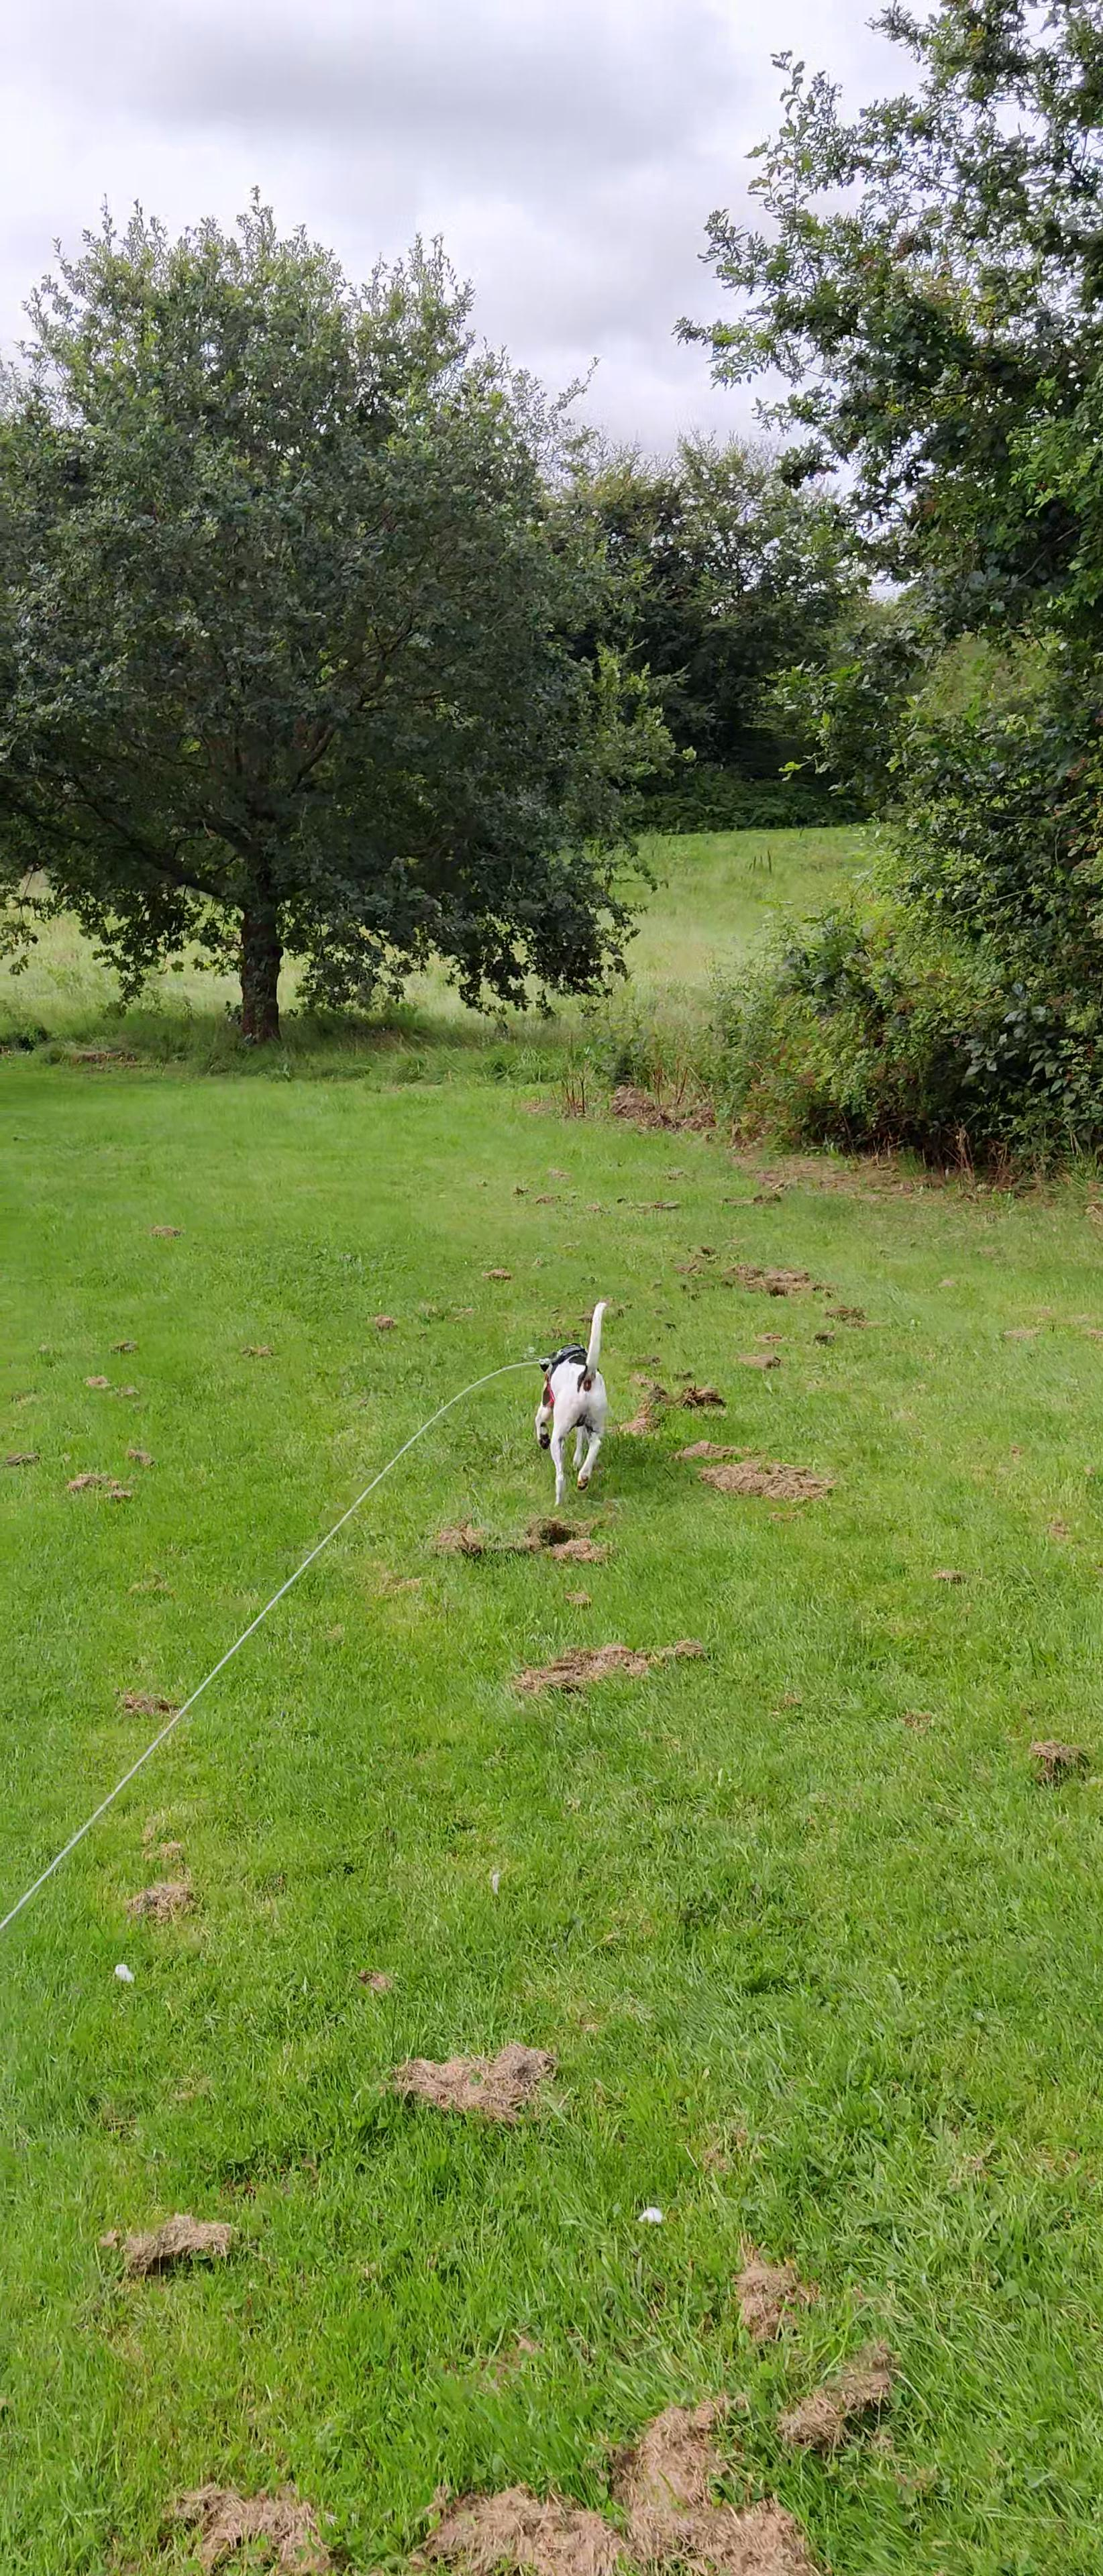Dog: (529, 1298, 616, 1511)
